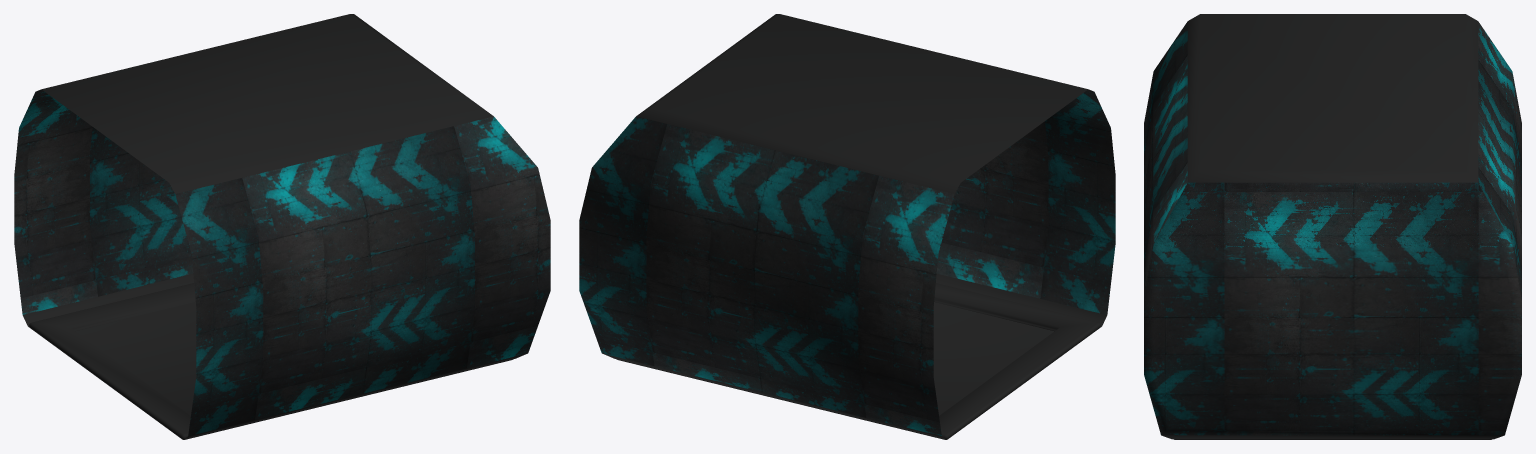
The model's file is corridor_deadend.fbx.
3 views of the same model, side by side, from view 1: azimuth 30°, elevation 25°; view 2: azimuth 150°, elevation 25°; view 3: azimuth 270°, elevation 25° (orthographic). The views are drawn at different scales.
Visible parts, largest first — view 1: corridor_deadend, corridor_deadend.001; view 2: corridor_deadend, corridor_deadend.001; view 3: corridor_deadend.
Boxes of the visible parts, bbox=[...] form: corridor_deadend: bbox=[14, 14, 550, 439]; corridor_deadend.001: bbox=[29, 283, 512, 439]; corridor_deadend: bbox=[579, 14, 1115, 439]; corridor_deadend.001: bbox=[617, 283, 1100, 439]; corridor_deadend: bbox=[1144, 14, 1521, 439].
Size of the model in its own units: 450 by 302 by 400.
